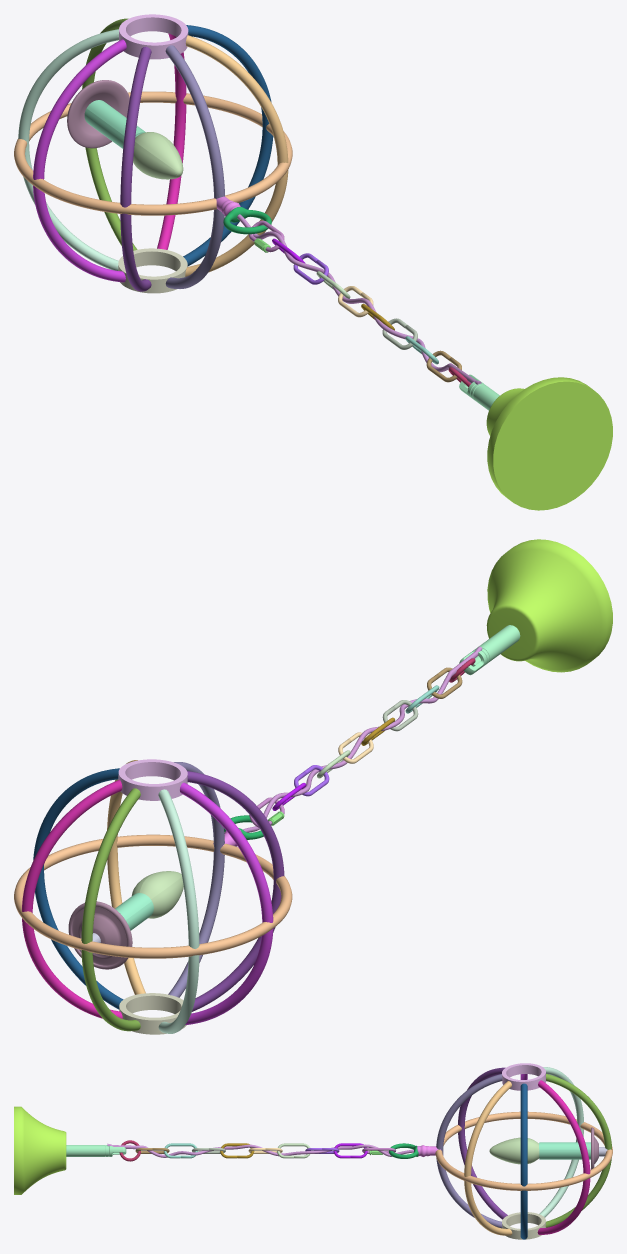
The picture shows the model from 3 angles, top to bottom: view 1: azimuth 30°, elevation 25°; view 2: azimuth 150°, elevation 25°; view 3: azimuth 270°, elevation 25°; orthographic projection. The views are drawn at different scales.
Parts seen in each view (by area): view 1: Object_11, split_parent_37, split_parent_35, split_parent_33, split_parent_30, split_parent_34, split_parent_32, split_parent_36, Object_9, Object_14, split_parent_6, split_parent_31 (+5 smaller); view 2: Object_11, split_parent_37, split_parent_35, split_parent_31, split_parent_11, split_parent_32, split_parent_34, split_parent_36, Object_9, split_parent_30, Object_14, Object_14.004 (+5 smaller); view 3: Object_11, split_parent_37, split_parent_31, split_parent_33, split_parent_30, split_parent_11, split_parent_36, split_parent_32, split_parent_9, split_parent_34, split_parent_6, Object_14 (+5 smaller).
Part boxes in pixels (box(x1,y1,x2,y2)): Object_11: box(486, 377, 612, 510); split_parent_37: box(14, 91, 292, 215); split_parent_35: box(33, 39, 126, 282); split_parent_33: box(185, 35, 288, 276); split_parent_30: box(165, 45, 224, 288); split_parent_34: box(18, 29, 118, 270); split_parent_32: box(120, 47, 151, 291); split_parent_36: box(183, 25, 273, 266); Object_9: box(67, 80, 129, 148); Object_14: box(119, 14, 188, 59); split_parent_6: box(133, 132, 183, 179); split_parent_31: box(157, 33, 186, 249); Object_11: box(486, 539, 612, 672); split_parent_37: box(14, 834, 292, 958); split_parent_35: box(180, 782, 273, 1024); split_parent_31: box(22, 780, 122, 1018); split_parent_11: box(81, 788, 140, 1031); split_parent_32: box(187, 771, 284, 1011); split_parent_34: box(158, 789, 199, 1033); split_parent_36: box(33, 768, 123, 1009); Object_9: box(68, 901, 132, 969); split_parent_30: box(168, 762, 224, 997); Object_14: box(118, 759, 187, 800); Object_14.004: box(119, 993, 186, 1034); Object_11: box(14, 1106, 66, 1194); split_parent_37: box(435, 1111, 612, 1190); split_parent_31: box(537, 1080, 590, 1234); split_parent_33: box(464, 1081, 512, 1235); split_parent_30: box(436, 1074, 502, 1228); split_parent_11: box(545, 1074, 611, 1227); split_parent_36: box(520, 1083, 527, 1239); split_parent_32: box(458, 1067, 507, 1219); split_parent_9: box(107, 1143, 413, 1157); split_parent_34: box(539, 1067, 583, 1217); split_parent_6: box(489, 1137, 539, 1164); Object_14: box(502, 1063, 546, 1090).
Bounding box in the file's own units: 0.2967 × 0.2937 × 1.
